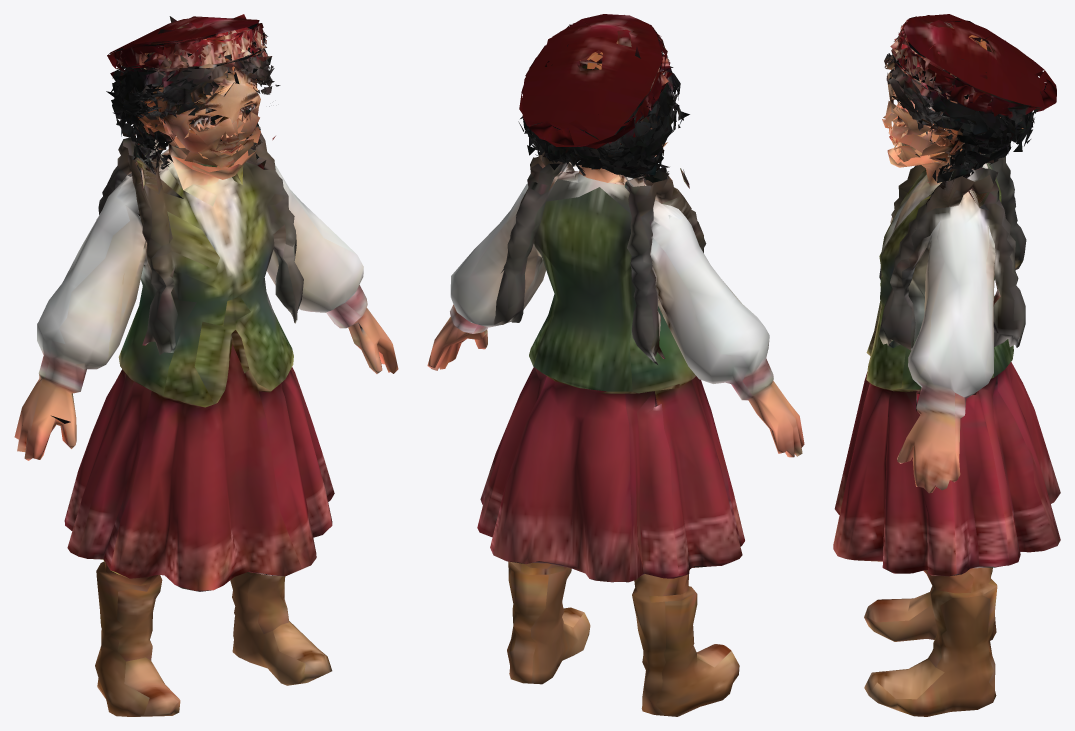
Rendered from child.gen.glb.
3 renders of one model, left to right at view 1: azimuth 30°, elevation 25°; view 2: azimuth 150°, elevation 25°; view 3: azimuth 270°, elevation 25°, orthographic. The views are drawn at different scales.
Visible parts, largest first — view 1: child.raw; view 2: child.raw; view 3: child.raw.
Boxes of the visible parts, x1=… form: child.raw: x1=14, y1=14, x2=398, y2=716; child.raw: x1=427, y1=14, x2=804, y2=716; child.raw: x1=833, y1=14, x2=1060, y2=716.
Size of the model in its own units: 0.6729 by 1.15 by 0.3694.
Materials: 1 (1 with a texture image).
